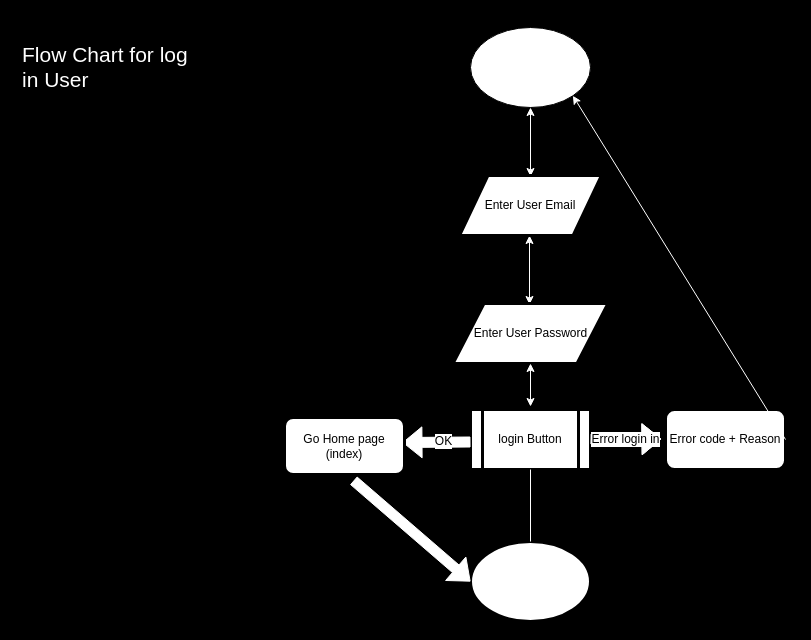
The diagram is 811 pixels wide and 640 high, and some of its shapes have lost their labels. Here are the shapes that lost their labels. From the top down, the centre of each, then its label:
At point (530, 67): "Start".
At point (530, 581): "End of Process".
